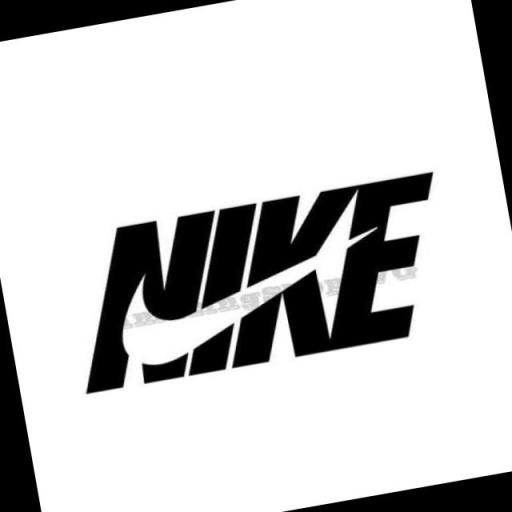Nike: (108, 224, 394, 370)
